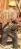hard-hat: (8, 0, 17, 7)
